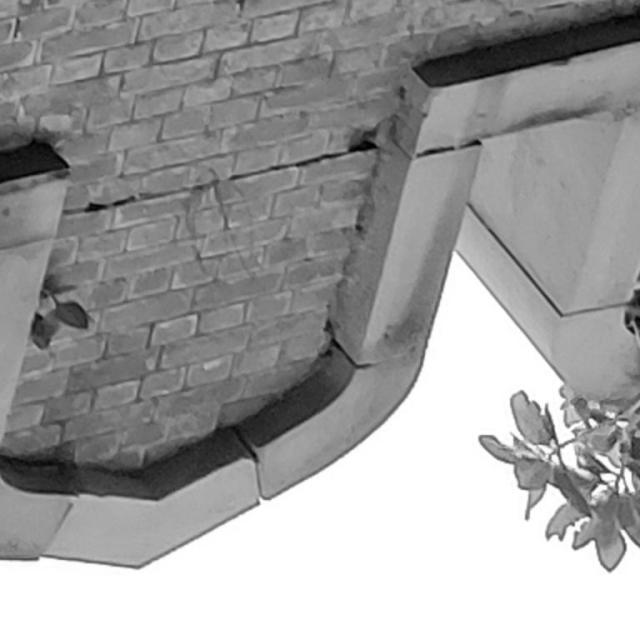crack: (61, 116, 388, 217), (313, 303, 334, 365)
